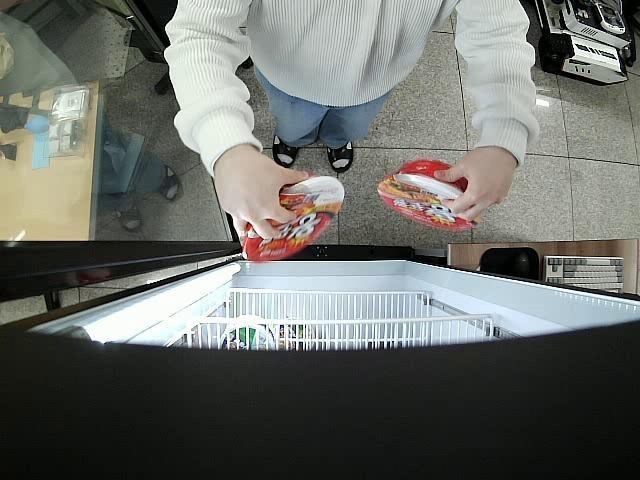10_wangTtukkeong: (240, 172, 344, 260), (377, 159, 477, 233)
